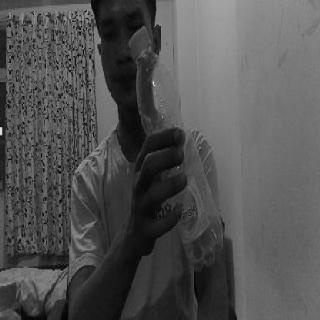plastic_bottles: (124, 26, 224, 268)
